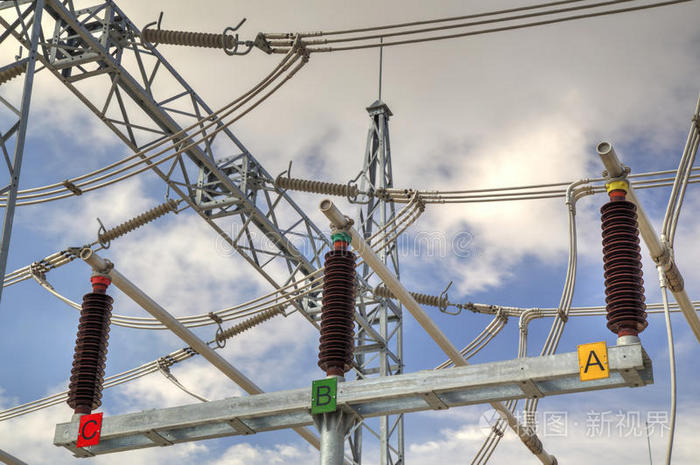insulator: (594, 199, 652, 331), (317, 250, 359, 367), (68, 291, 109, 409), (97, 196, 182, 247), (218, 304, 287, 343), (139, 27, 238, 53), (276, 173, 357, 201), (372, 283, 440, 309), (1, 59, 31, 86)
